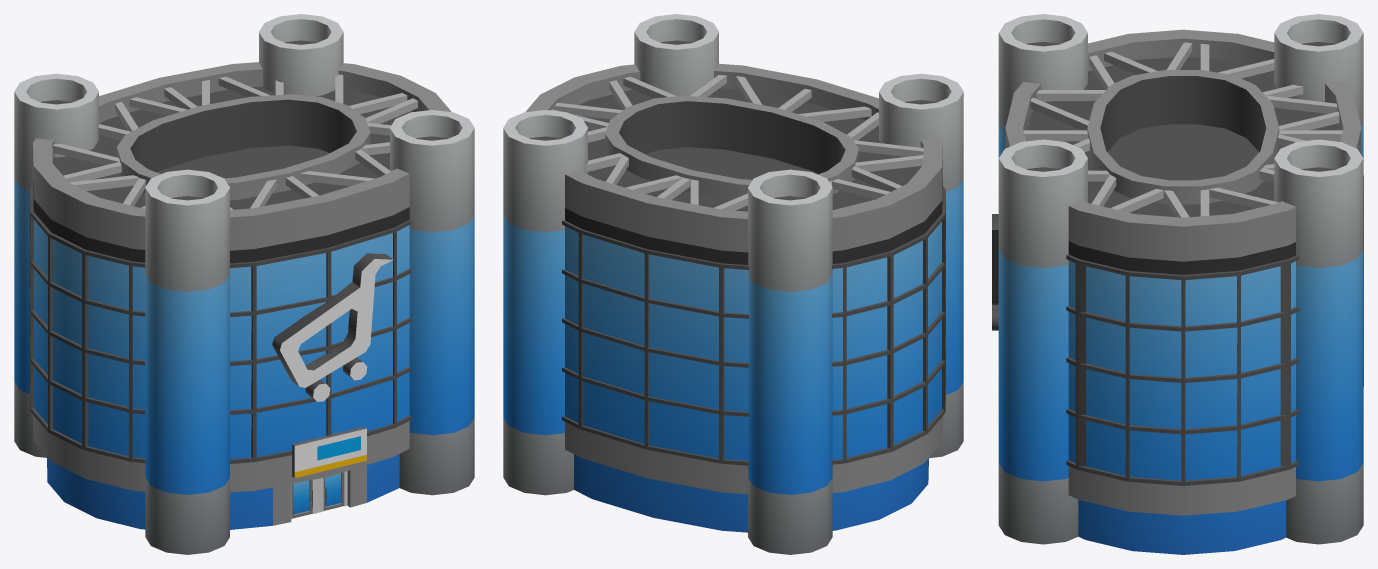
File: supermarket_003.glb
3 views of the same model, side by side, from view 1: azimuth 30°, elevation 25°; view 2: azimuth 150°, elevation 25°; view 3: azimuth 270°, elevation 25° (orthographic). The views are drawn at different scales.
Visible parts, largest first — view 1: supermarket_003; view 2: supermarket_003; view 3: supermarket_003.
Part boxes in pixels (x1,y1,x2,y2): supermarket_003: (14,14,474,554); supermarket_003: (503,14,963,554); supermarket_003: (992,14,1363,554).
Bounding box in the file's own units: 22.48 × 19.28 × 17.69.
3 materials, 3 textured.
